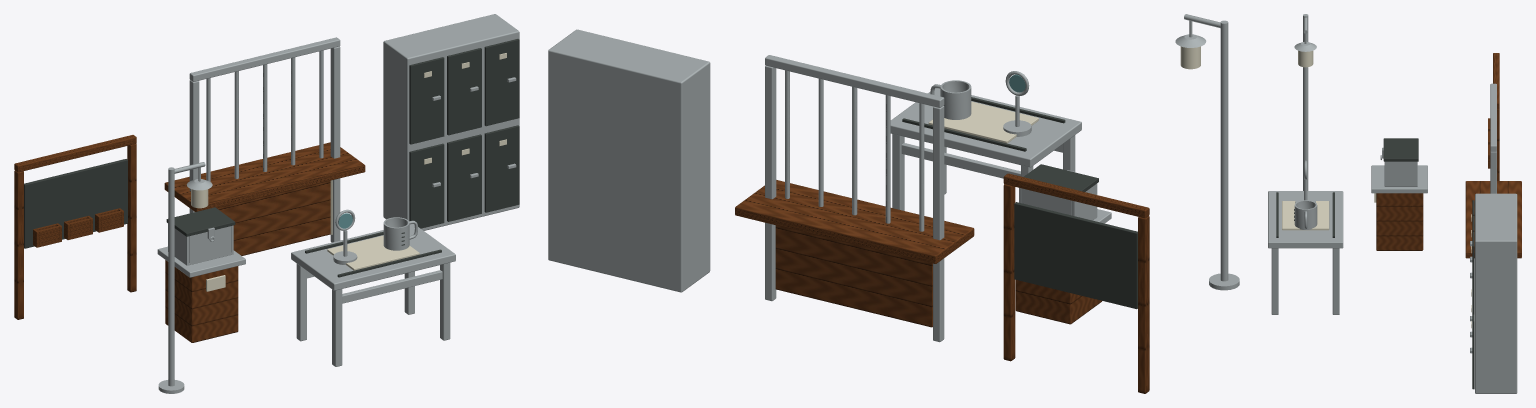
The picture shows the model from 3 angles, left to right: view 1: azimuth 30°, elevation 25°; view 2: azimuth 150°, elevation 25°; view 3: azimuth 270°, elevation 25°; orthographic projection. The views are drawn at different scales.
Visible parts, largest first — view 1: 006-numbered-locker-bank/1, 000-secure-exchange-window/1, 006-numbered-locker-bank/0, 003-trade-inspection-table/0, 000-secure-exchange-window/0, 007-request-board/0, 007-request-board/1, 001-sample-display-plinth/0, 008-market-lantern-post/0, 002-barter-strongbox/0, 003-trade-inspection-table/1, 002-barter-strongbox/lid/dark (+4 smaller); view 2: 006-numbered-locker-bank/0, 000-secure-exchange-window/1, 000-secure-exchange-window/0, 007-request-board/1, 003-trade-inspection-table/0, 007-request-board/0, 008-market-lantern-post/0, 001-sample-display-plinth/0, 003-trade-inspection-table/1, 002-barter-strongbox/0, 005-volume-measure-vessel/0, 002-barter-strongbox/lid/dark (+2 smaller); view 3: 006-numbered-locker-bank/0, 003-trade-inspection-table/0, 001-sample-display-plinth/0, 000-secure-exchange-window/1, 008-market-lantern-post/0, 001-sample-display-plinth/1, 002-barter-strongbox/0, 002-barter-strongbox/lid/dark, 003-trade-inspection-table/1, 000-secure-exchange-window/0, 007-request-board/0, 005-volume-measure-vessel/0 (+3 smaller).
Part boxes in pixels (x1,y1,x2,y2): 006-numbered-locker-bank/1: (409, 39, 519, 228); 000-secure-exchange-window/1: (164, 142, 365, 255); 006-numbered-locker-bank/0: (383, 14, 519, 230); 003-trade-inspection-table/0: (291, 224, 455, 366); 000-secure-exchange-window/0: (189, 37, 340, 242); 007-request-board/0: (14, 135, 136, 319); 007-request-board/1: (24, 159, 127, 248); 001-sample-display-plinth/0: (165, 260, 238, 342); 008-market-lantern-post/0: (158, 162, 212, 393); 002-barter-strongbox/0: (168, 223, 233, 265); 003-trade-inspection-table/1: (327, 235, 419, 270); 002-barter-strongbox/lid/dark: (166, 207, 235, 236); 006-numbered-locker-bank/0: (548, 29, 710, 292); 000-secure-exchange-window/1: (735, 180, 974, 327); 000-secure-exchange-window/0: (765, 55, 944, 342); 007-request-board/1: (1014, 202, 1137, 309); 003-trade-inspection-table/0: (890, 88, 1081, 210); 007-request-board/0: (1003, 173, 1149, 393); 008-market-lantern-post/0: (1175, 14, 1239, 290); 001-sample-display-plinth/0: (1015, 280, 1101, 324); 003-trade-inspection-table/1: (928, 101, 1038, 143); 002-barter-strongbox/0: (1019, 170, 1097, 220); 005-volume-measure-vessel/0: (930, 80, 971, 119); 002-barter-strongbox/lid/dark: (1024, 164, 1098, 191); 006-numbered-locker-bank/0: (1470, 193, 1517, 393); 003-trade-inspection-table/0: (1268, 191, 1343, 314); 001-sample-display-plinth/0: (1376, 193, 1423, 250); 000-secure-exchange-window/1: (1465, 181, 1521, 258); 008-market-lantern-post/0: (1294, 14, 1316, 190); 001-sample-display-plinth/1: (1371, 165, 1427, 193); 002-barter-strongbox/0: (1380, 147, 1417, 186); 002-barter-strongbox/lid/dark: (1383, 138, 1418, 161); 003-trade-inspection-table/1: (1282, 201, 1329, 230); 000-secure-exchange-window/0: (1490, 83, 1496, 193); 007-request-board/0: (1488, 53, 1499, 180); 005-volume-measure-vessel/0: (1294, 200, 1317, 229).
Size of the model in its own units: 5.24 by 2.24 by 2.7.
5 materials, 1 textured.
